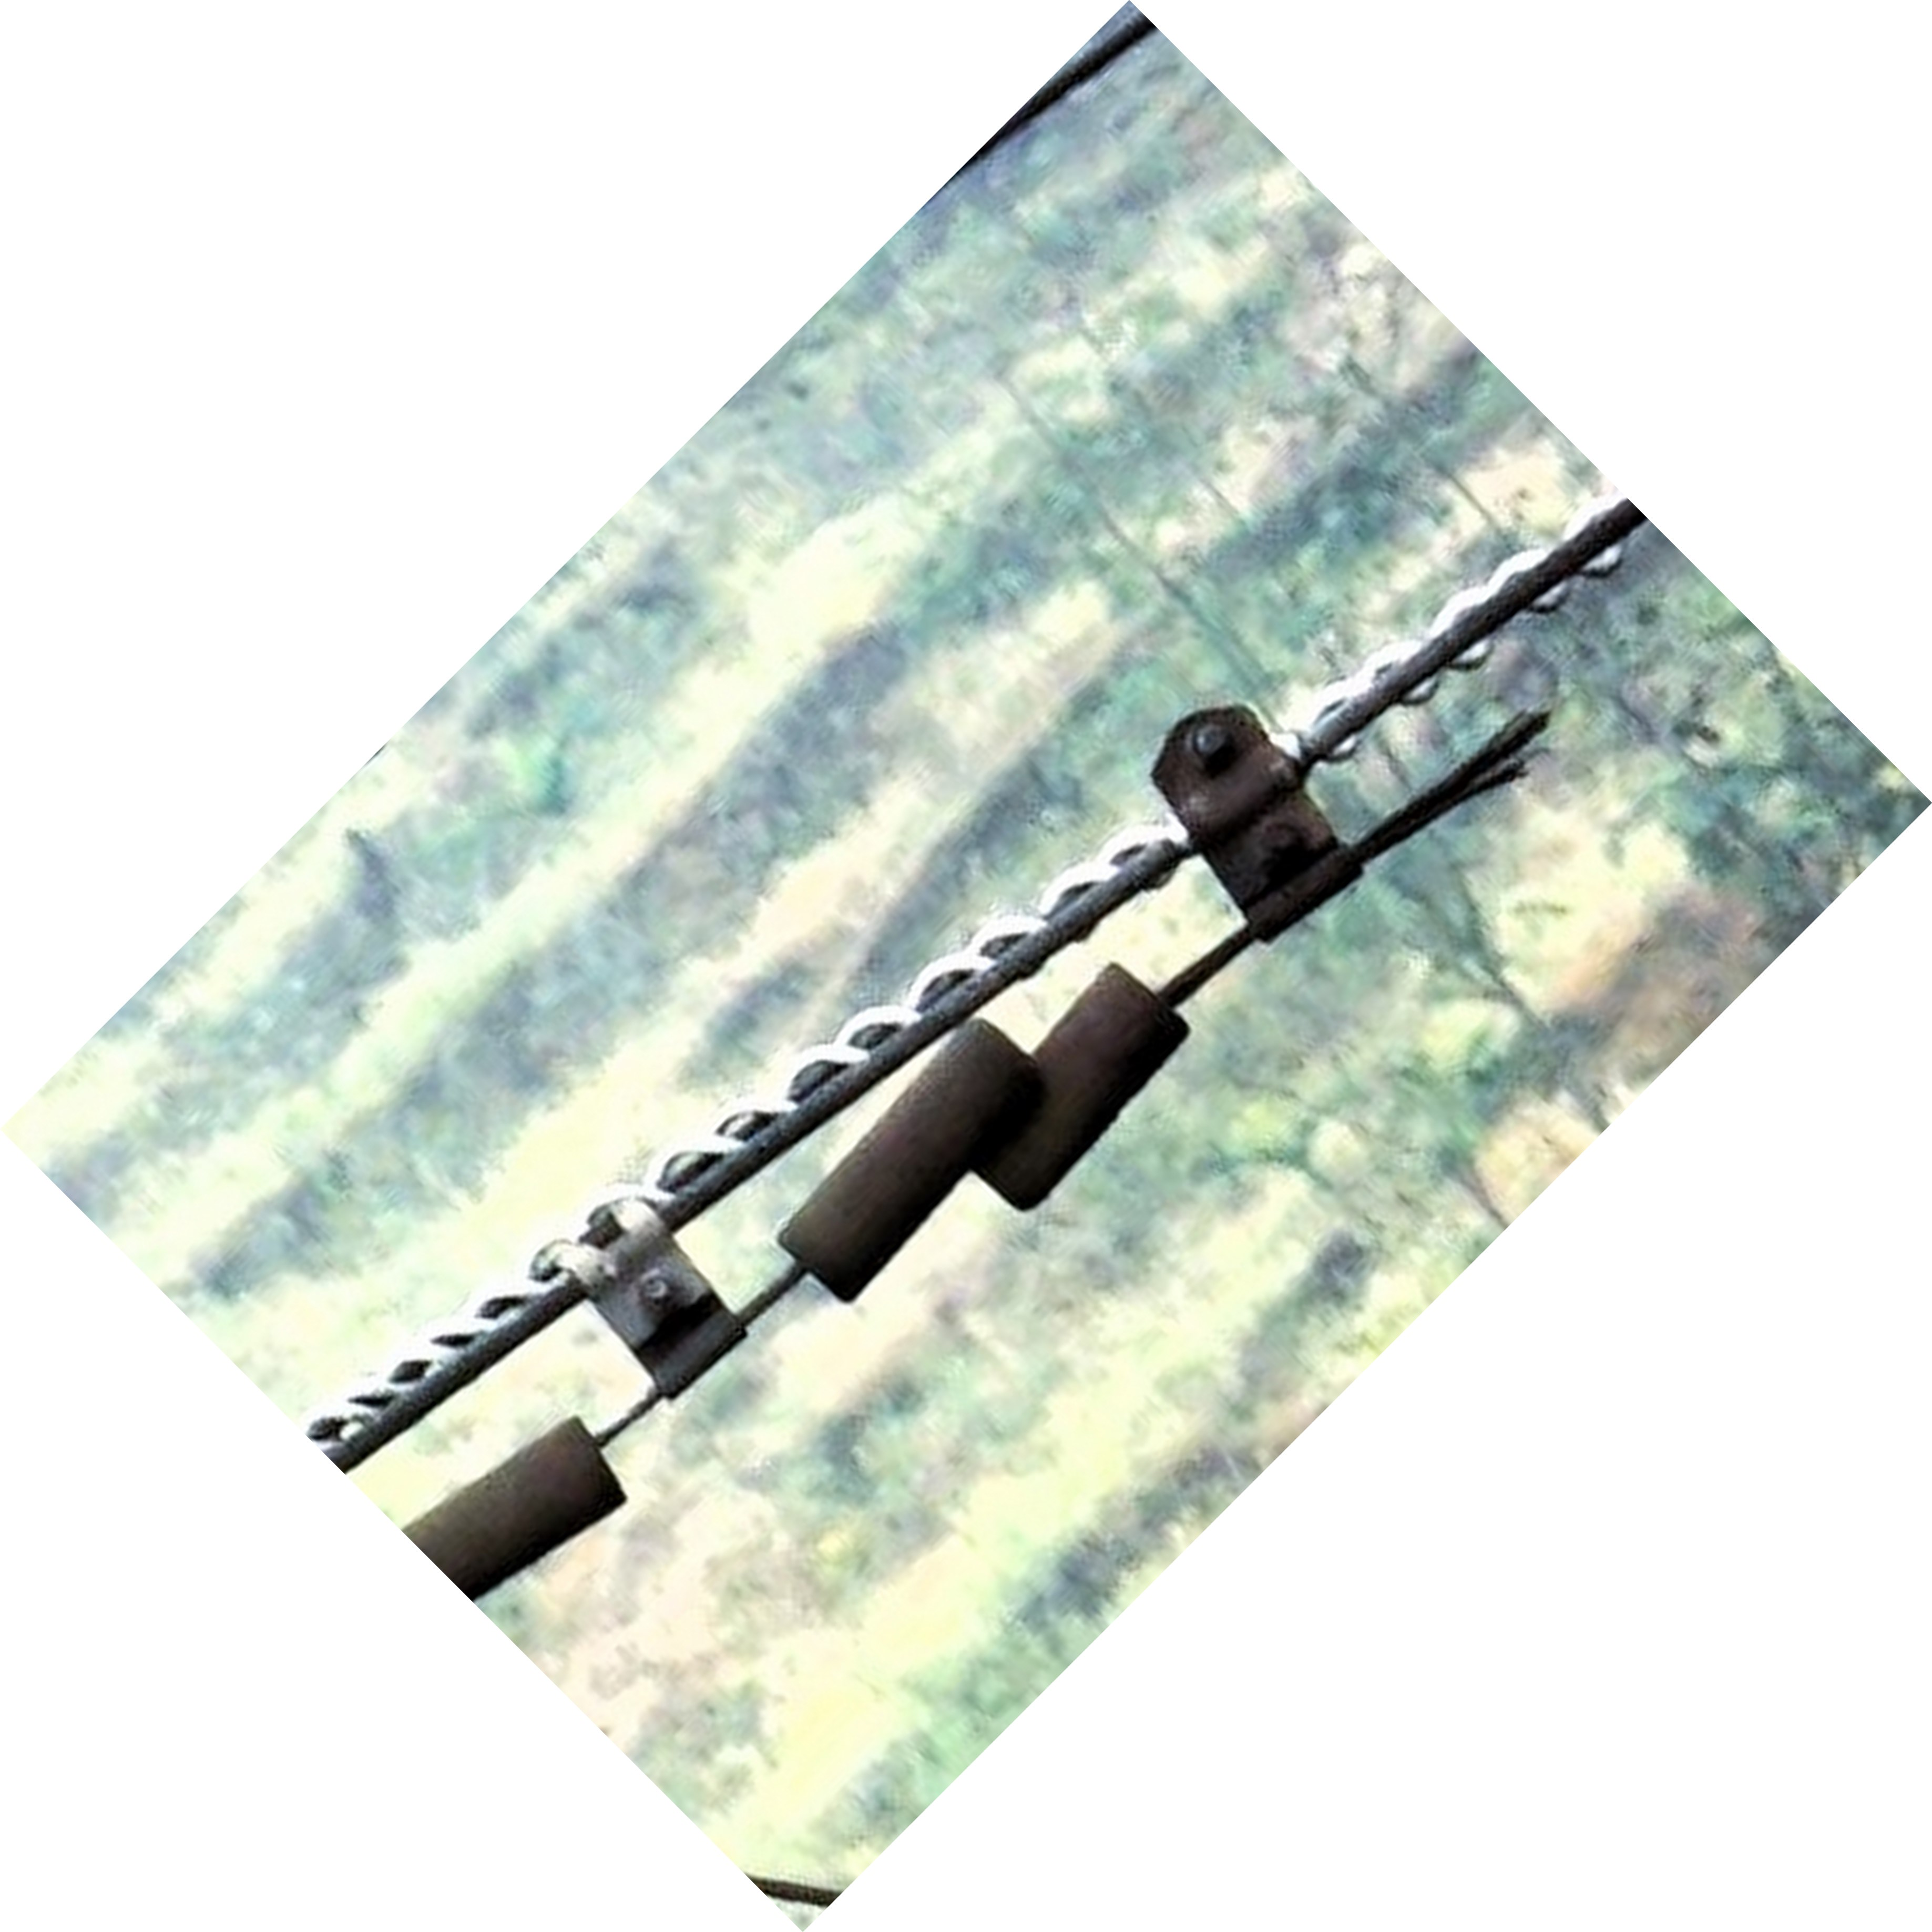Damage of shockproof hammer: (954, 656, 1608, 1254)
